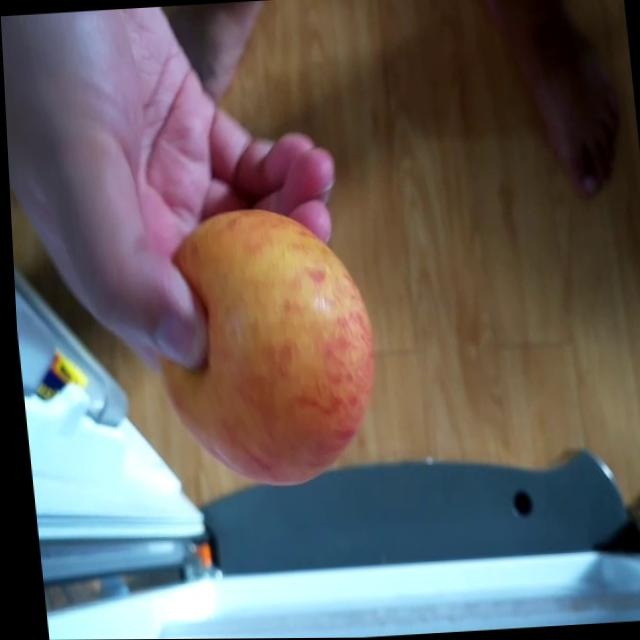apple: (142, 200, 387, 497)
